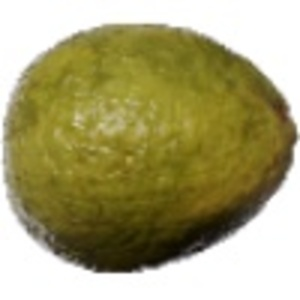goiaba: (5, 18, 298, 279)
